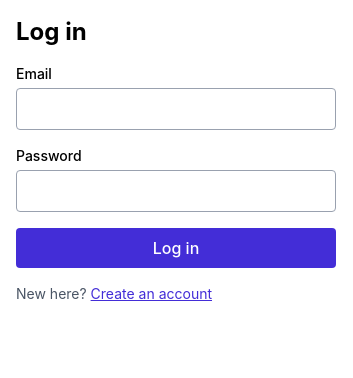
Scenario: LoginView › maps boom to a message
In the field with id "email": {"x": 176, "y": 109} [16, 88, 336, 130], type "a@b.co"
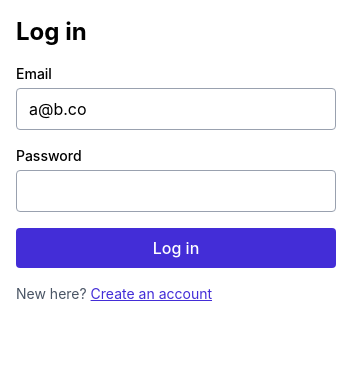
In the password field labelled "Password": {"x": 176, "y": 191} [16, 170, 336, 212], type "secretpassword"
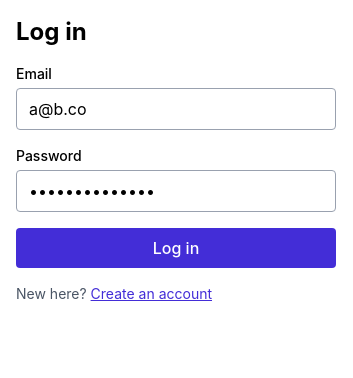
Submit the form
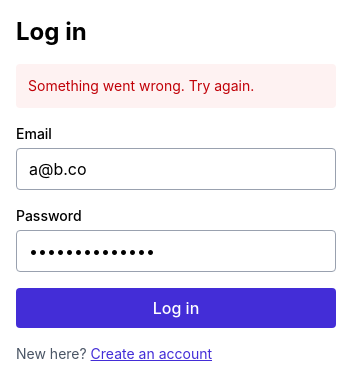
Now the message "Something went wrong. Try again." is shown, box [16, 64, 336, 108]
